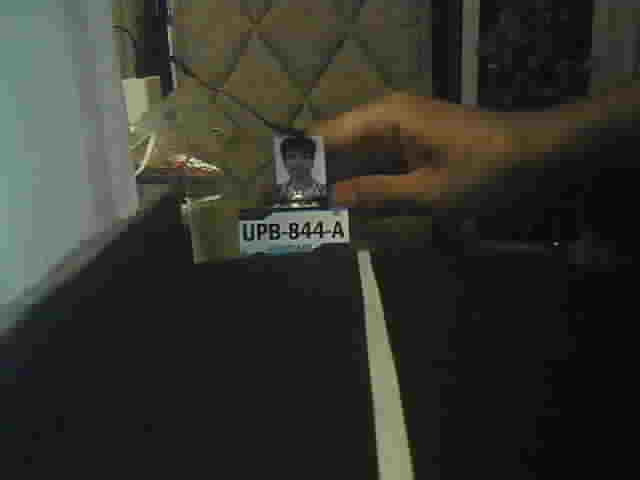PLACA: (239, 206, 352, 257)
ROSTRO: (274, 137, 327, 192)
